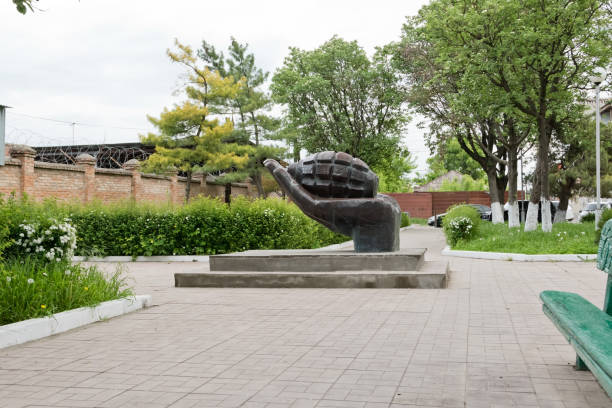e1: (287, 146, 383, 203)
